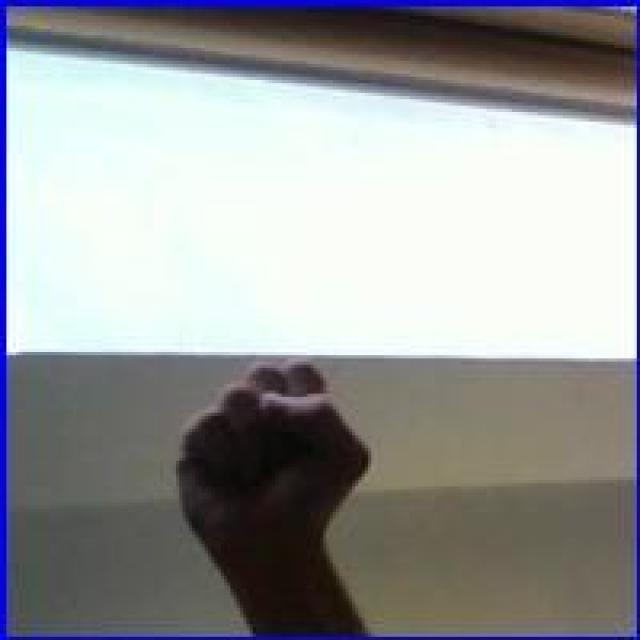S: (166, 358, 378, 557)
